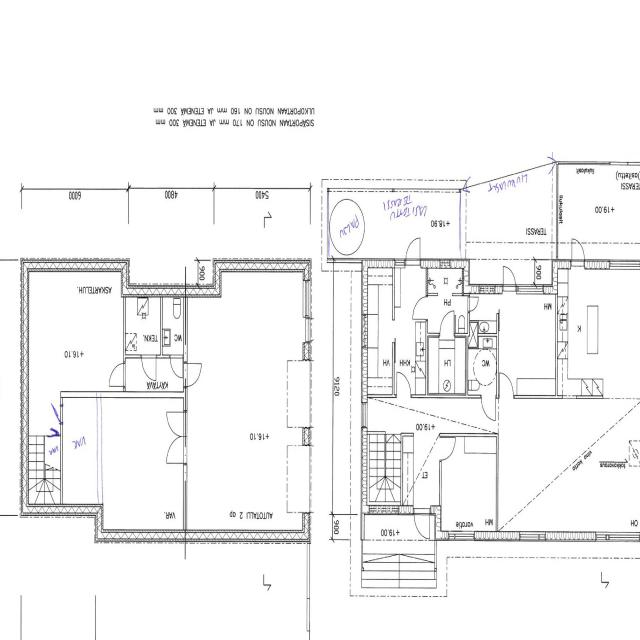door: (413, 504, 430, 542), (302, 318, 326, 343), (405, 234, 421, 268), (167, 411, 187, 437), (167, 437, 187, 463), (571, 237, 585, 270), (183, 363, 202, 387), (502, 263, 516, 294), (439, 437, 456, 460), (396, 372, 411, 398), (499, 372, 514, 398), (481, 395, 496, 421), (142, 355, 156, 381), (440, 310, 454, 336), (109, 364, 125, 386), (412, 297, 428, 319), (170, 355, 183, 378), (48, 404, 62, 424), (47, 415, 59, 436), (468, 297, 478, 311)
